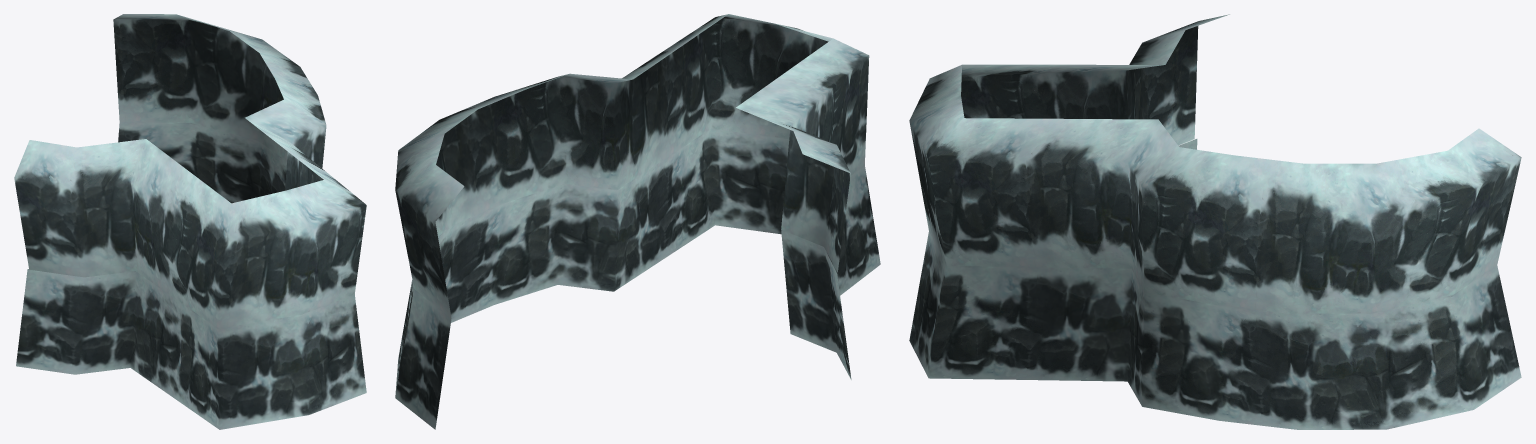
File: section05_guanka09_dimian02.FBX
3 renders of one model, left to right at view 1: azimuth 30°, elevation 25°; view 2: azimuth 150°, elevation 25°; view 3: azimuth 270°, elevation 25°, orthographic. The views are drawn at different scales.
Visible parts, largest first — view 1: section05_guanka09_dimian02; view 2: section05_guanka09_dimian02; view 3: section05_guanka09_dimian02.
Boxes of the visible parts, x1=… form: section05_guanka09_dimian02: x1=14, y1=14, x2=366, y2=429; section05_guanka09_dimian02: x1=395, y1=14, x2=880, y2=429; section05_guanka09_dimian02: x1=909, y1=14, x2=1521, y2=429.
Bounding box in the file's own units: 69.99 × 96.3 × 42.6.
